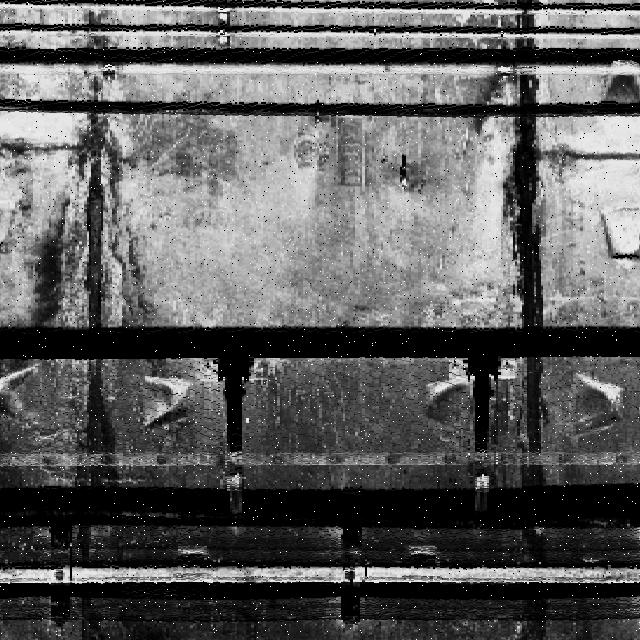leakage: (10, 82, 196, 492), (491, 2, 561, 490), (515, 525, 552, 639)
